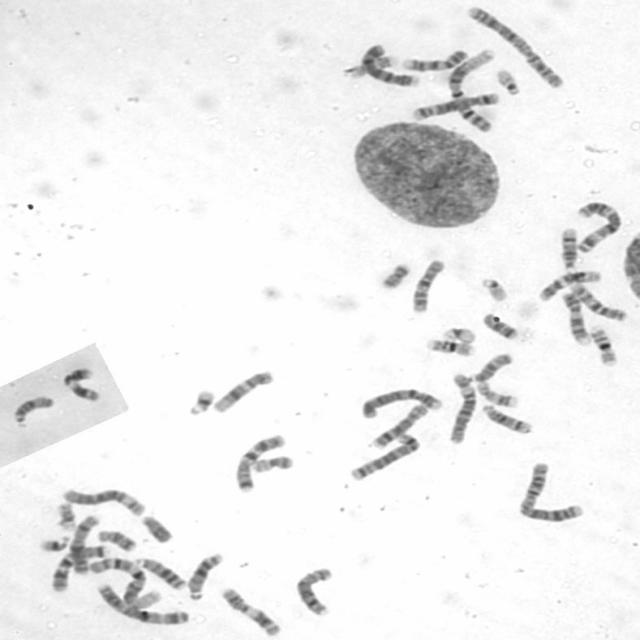A1: (445, 46, 497, 134), (86, 555, 162, 610)
A2: (464, 3, 565, 89), (514, 460, 588, 524)
A3: (93, 580, 193, 626), (574, 199, 622, 254)
B4: (358, 385, 444, 421), (358, 41, 421, 89)
B5: (347, 431, 423, 482), (409, 90, 502, 121)
C10: (565, 281, 629, 322), (409, 256, 447, 314)
C11: (216, 584, 284, 638), (60, 363, 104, 402)
C12: (210, 368, 276, 413), (534, 267, 602, 303)
C6: (60, 483, 148, 517), (445, 372, 480, 444)
C7: (231, 432, 287, 493), (49, 542, 110, 592)
C8: (369, 401, 431, 449), (292, 563, 335, 618)
C9: (558, 289, 593, 347), (400, 47, 470, 72)
D13: (184, 550, 226, 602), (132, 554, 188, 592)
D14: (478, 401, 536, 435), (557, 224, 580, 272)
D15: (9, 392, 56, 426), (469, 350, 514, 382)
E16: (586, 323, 620, 367), (423, 334, 477, 357)
E17: (336, 54, 398, 81), (474, 378, 520, 408)
E18: (480, 310, 520, 340), (94, 527, 138, 552)
F19: (46, 503, 76, 530), (440, 324, 478, 344)
F20: (378, 260, 410, 290), (251, 453, 295, 474)
G21: (184, 387, 216, 417), (36, 533, 70, 553)
G22: (477, 274, 510, 304), (492, 66, 521, 96)
X: (69, 513, 99, 576)
Y: (138, 512, 173, 544)
